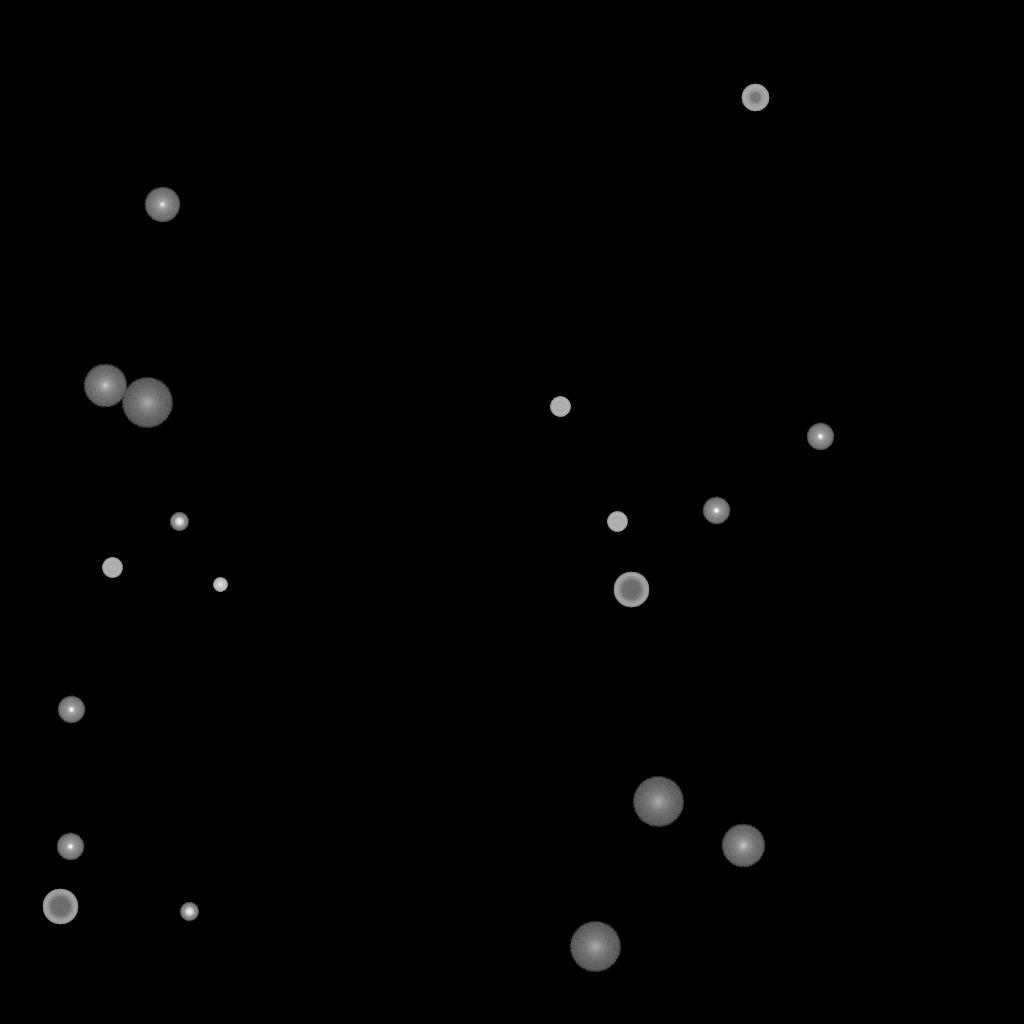depth:-10: (56, 833, 84, 861), (806, 423, 834, 451), (702, 497, 730, 525), (57, 696, 85, 724)
depth:-20: (180, 903, 198, 921), (170, 513, 188, 531)
depth:-30: (213, 578, 227, 592)
depth:-40: (550, 397, 570, 417), (607, 512, 627, 532), (102, 558, 122, 578)
depth:-50: (741, 84, 769, 112)
depth:-60: (613, 572, 649, 608), (42, 889, 78, 925)
depth:0: (144, 187, 180, 223)
depth:10: (83, 364, 127, 408), (721, 824, 765, 868)
depth:20: (121, 378, 173, 428), (569, 922, 621, 972), (632, 777, 684, 827)
